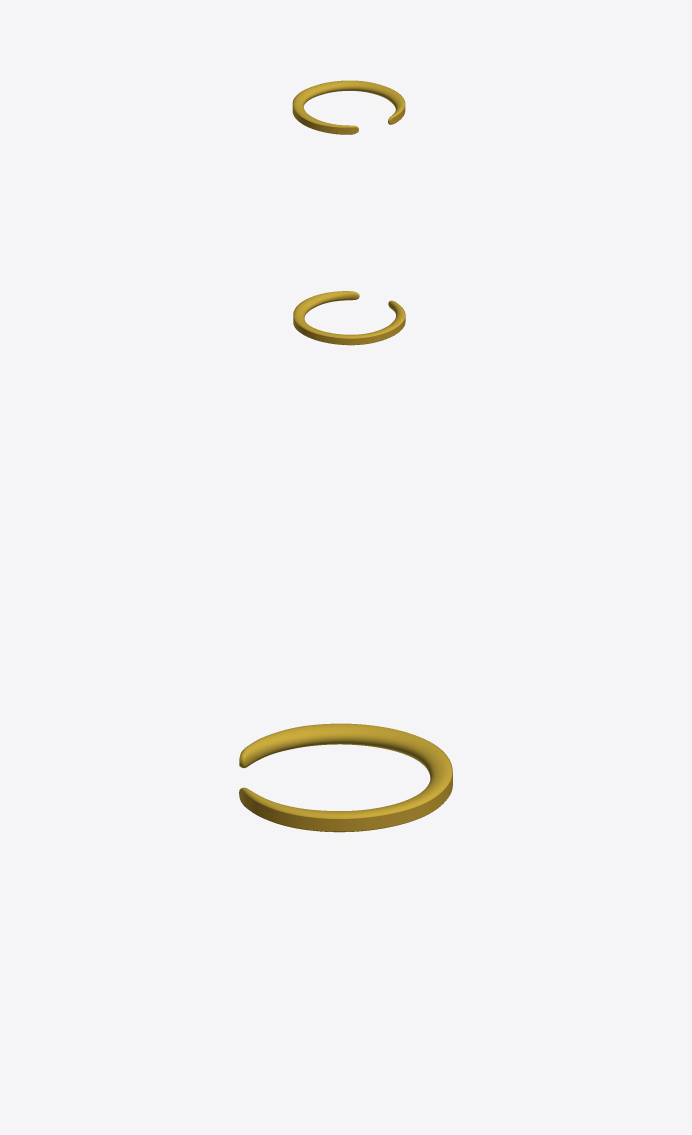
Rendered from shimada-ring.glb.
3 views of the same model, one above another, from view 1: azimuth 30°, elevation 25°; view 2: azimuth 150°, elevation 25°; view 3: azimuth 270°, elevation 25° (orthographic). The views are drawn at different scales.
Parts seen in each view (by area): view 1: ring-body, ring-body.001; view 2: ring-body, ring-body.001; view 3: ring-body, ring-body.001.
Part boxes in pixels (left/top/right/bottom): ring-body: left=292, top=80, right=405, bottom=134; ring-body.001: left=292, top=91, right=405, bottom=134; ring-body: left=293, top=291, right=405, bottom=345; ring-body.001: left=293, top=299, right=405, bottom=344; ring-body: left=239, top=723, right=452, bottom=832; ring-body.001: left=239, top=738, right=452, bottom=831.
Bounding box in the file's own units: 3.43 × 0.0989 × 0.4867.
Materials: 3 (2 with a texture image).
